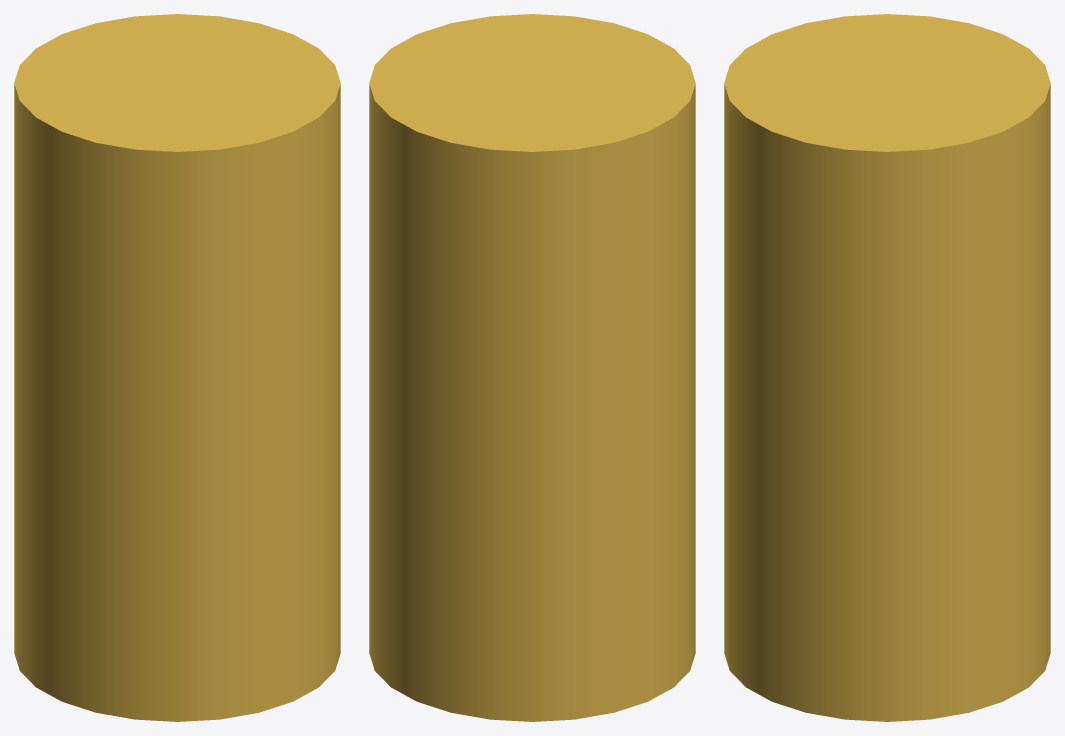
Rendered from air sirup.fbx.
3 views of the same model, side by side, from view 1: azimuth 30°, elevation 25°; view 2: azimuth 150°, elevation 25°; view 3: azimuth 270°, elevation 25° (orthographic).
Parts seen in each view (by area): view 1: air sirup; view 2: air sirup; view 3: air sirup.
Boxes of the visible parts, x1,y1,x2,y2 form: air sirup: (14, 14, 340, 721); air sirup: (369, 14, 695, 721); air sirup: (724, 14, 1050, 721).
Size of the model in its own units: 23.49 by 45.24 by 23.49.
